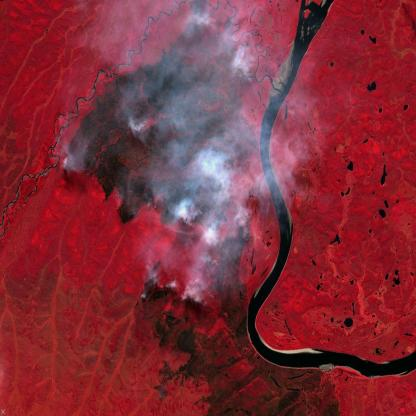fire: (61, 40, 257, 314)
